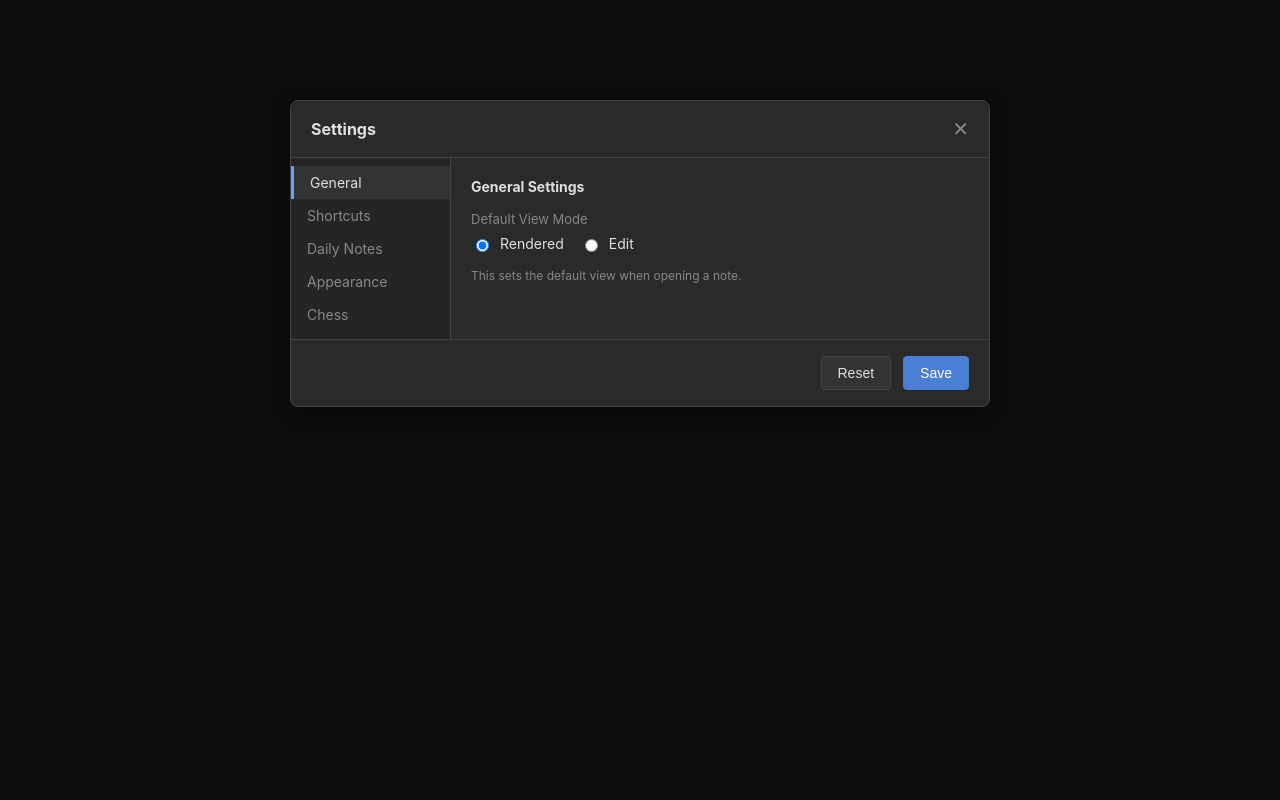
Test: SettingsModal › switches to Shortcuts section when clicked
Click the text "Shortcuts" at (339, 216), box [307,207,371,224]
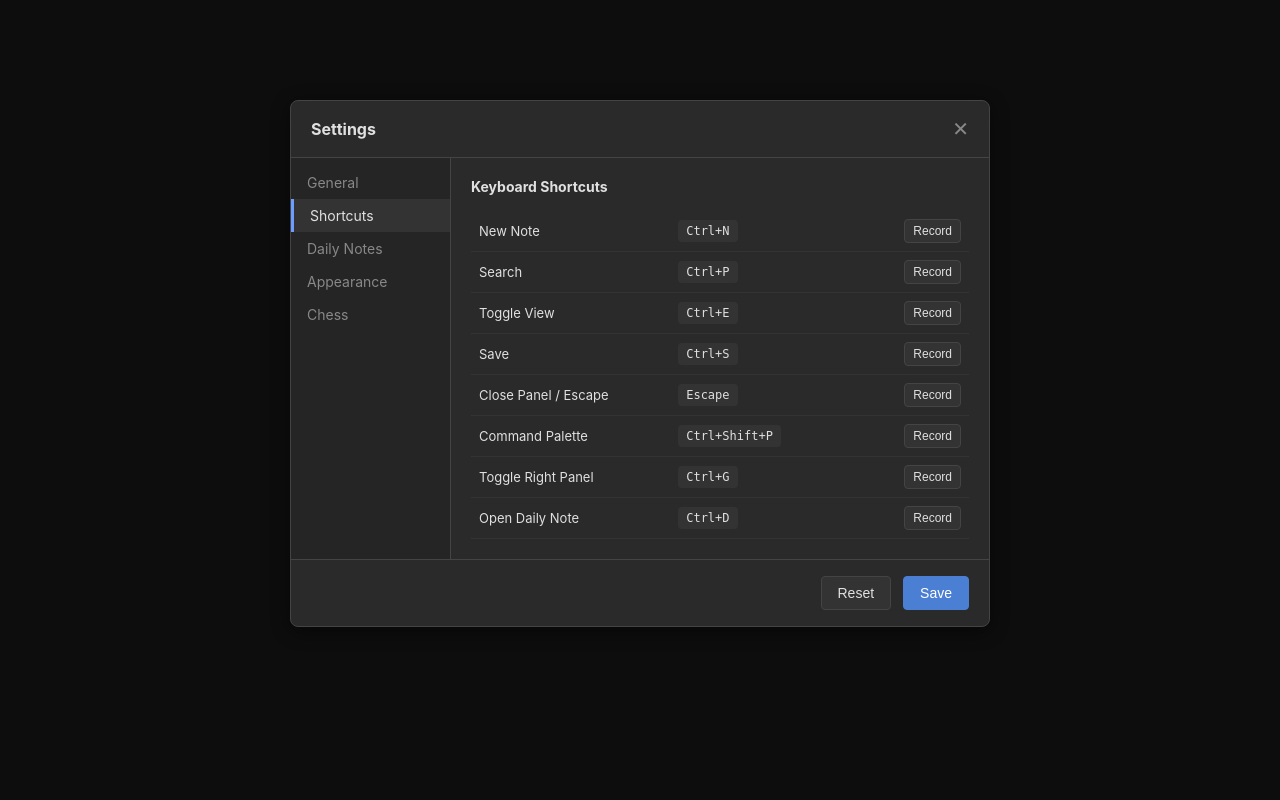
Check: the text "Keyboard Shortcuts" is shown, box [471,178,608,195]
